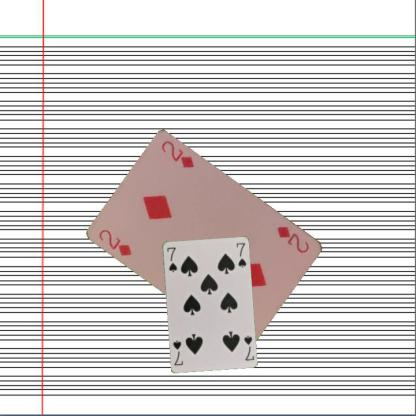2d: (274, 222, 311, 255), (97, 227, 134, 257)
7s: (164, 244, 178, 274), (241, 332, 255, 362)
